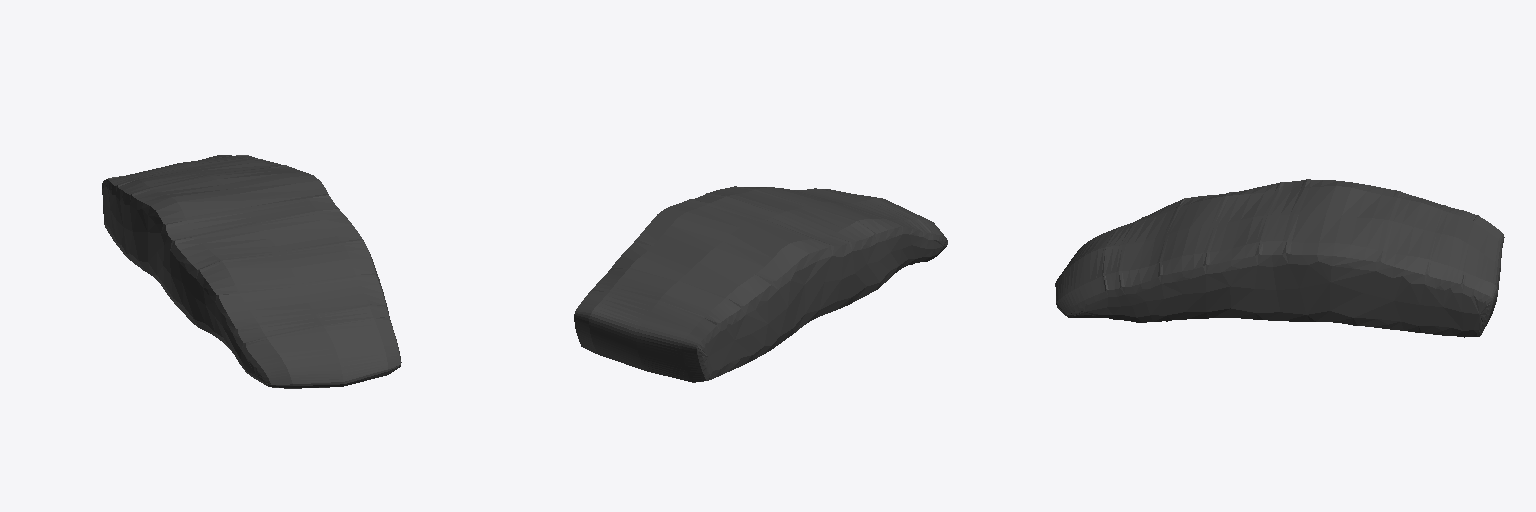
Rendered from pescado2.obj.
3 views of the same model, side by side, from view 1: azimuth 30°, elevation 25°; view 2: azimuth 150°, elevation 25°; view 3: azimuth 270°, elevation 25° (orthographic).
Visible parts, largest first — view 1: Line10.001; view 2: Line10.001; view 3: Line10.001.
Part boxes in pixels (x1,y1,x2,y2): Line10.001: (102, 155, 401, 388); Line10.001: (574, 186, 947, 382); Line10.001: (1055, 179, 1504, 337).
Size of the model in its own units: 0.4473 by 0.2153 by 0.9601.